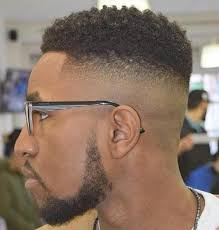black_male: (12, 34, 191, 210)
